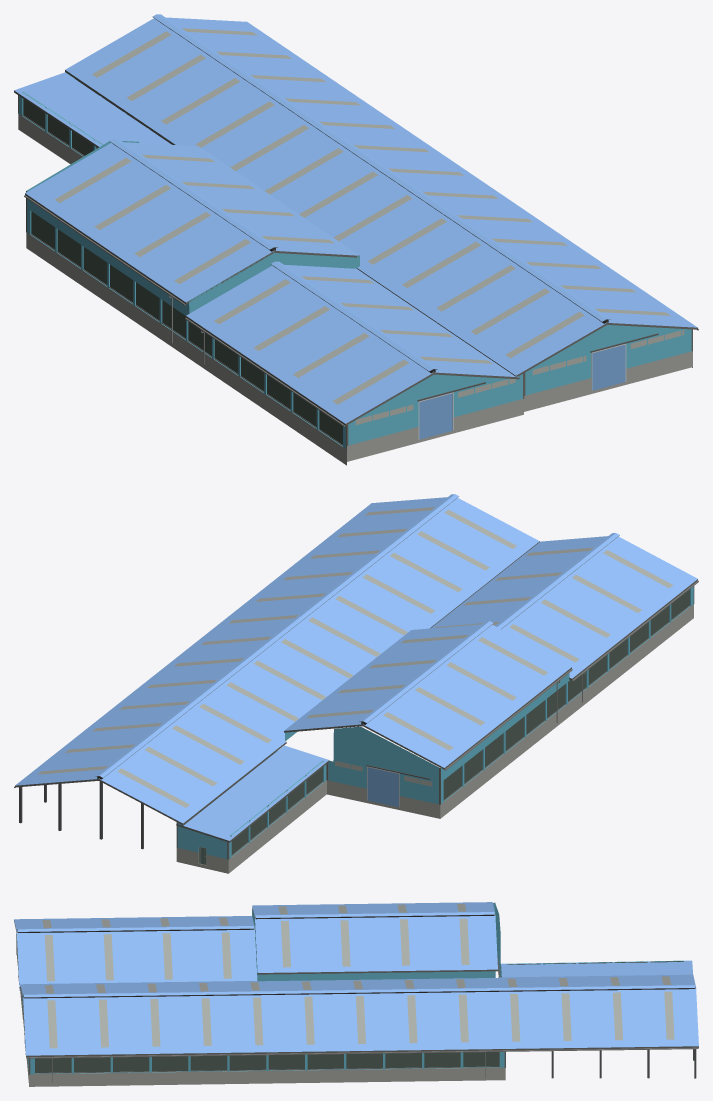
The model's file is fb_stables_1255.glb.
The picture shows the model from 3 angles, top to bottom: view 1: azimuth 30°, elevation 25°; view 2: azimuth 150°, elevation 25°; view 3: azimuth 270°, elevation 25°; orthographic projection. The views are drawn at different scales.
Visible parts, largest first — view 1: vh_roof, vh_light, vh_sheet, vh_plinth, vh_net, vh_trim, vh_door, vh_frames_small, vh_metal_small; view 2: vh_roof, vh_light, vh_sheet, vh_plinth, vh_net, vh_trim, vh_door, vh_frames_small, vh_metal_small; view 3: vh_roof, vh_light, vh_net, vh_plinth, vh_trim, vh_sheet, vh_frames_small, vh_metal_small.
Boxes of the visible parts, x1,y1,x2,y2 form: vh_roof: (14, 14, 697, 423); vh_light: (55, 28, 684, 424); vh_sheet: (19, 73, 691, 448); vh_plinth: (18, 114, 692, 465); vh_net: (23, 80, 342, 444); vh_trim: (14, 17, 697, 449); vh_door: (419, 344, 625, 439); vh_frames_small: (24, 195, 698, 426); vh_metal_small: (22, 115, 658, 445); vh_roof: (15, 494, 697, 840); vh_light: (38, 507, 672, 807); vh_sheet: (177, 586, 693, 858); vh_plinth: (176, 604, 693, 873); vh_net: (184, 589, 689, 854); vh_trim: (15, 497, 697, 864); vh_door: (367, 767, 398, 807); vh_frames_small: (14, 580, 698, 864); vh_metal_small: (205, 605, 690, 856); vh_roof: (14, 902, 698, 1055); vh_light: (42, 903, 674, 1048); vh_net: (35, 961, 683, 1072); vh_plinth: (16, 940, 505, 1086); vh_trim: (14, 902, 698, 1078); vh_sheet: (16, 903, 683, 1074); vh_frames_small: (26, 1047, 698, 1082); vh_metal_small: (35, 1066, 499, 1073).
Bounding box in the file's own units: 43.33 × 9.63 × 85.67.
